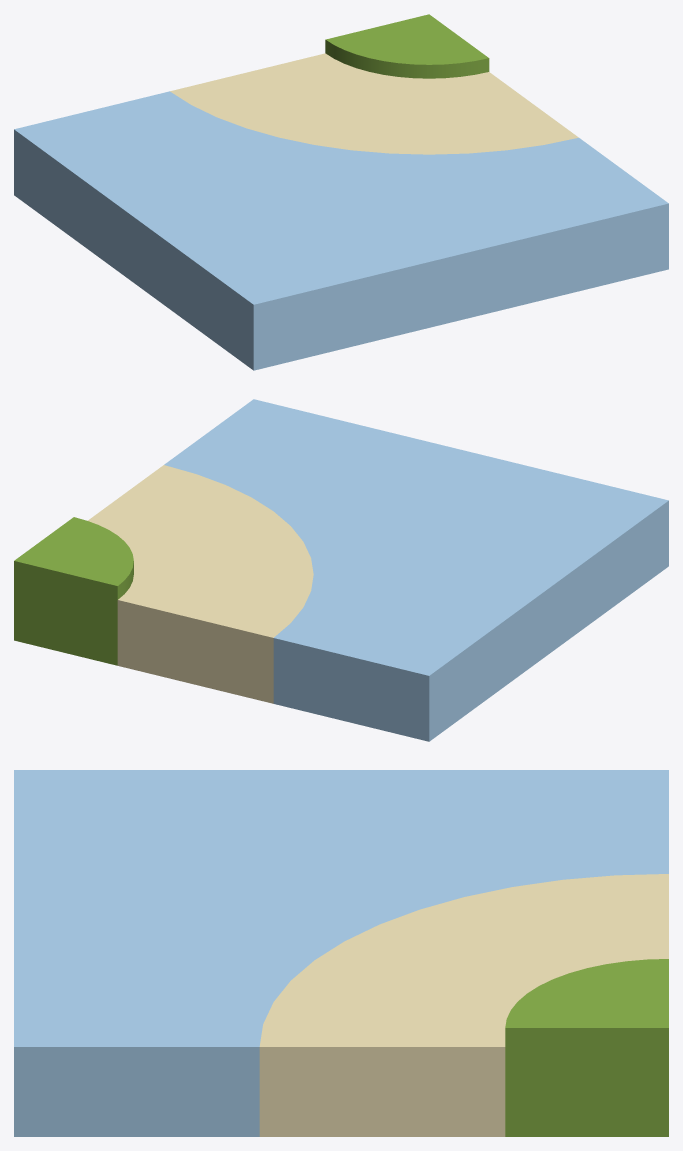
File: tile126.fbx
3 views of the same model, one above another, from view 1: azimuth 30°, elevation 25°; view 2: azimuth 150°, elevation 25°; view 3: azimuth 270°, elevation 25° (orthographic). The views are drawn at different scales.
Parts seen in each view (by area): view 1: tile126; view 2: tile126; view 3: tile126.
Part boxes in pixels (x1,y1,x2,y2): tile126: (14,14,668,370); tile126: (14,399,668,741); tile126: (14,770,668,1136).
Bounding box in the file's own units: 10 × 1.83 × 10.
